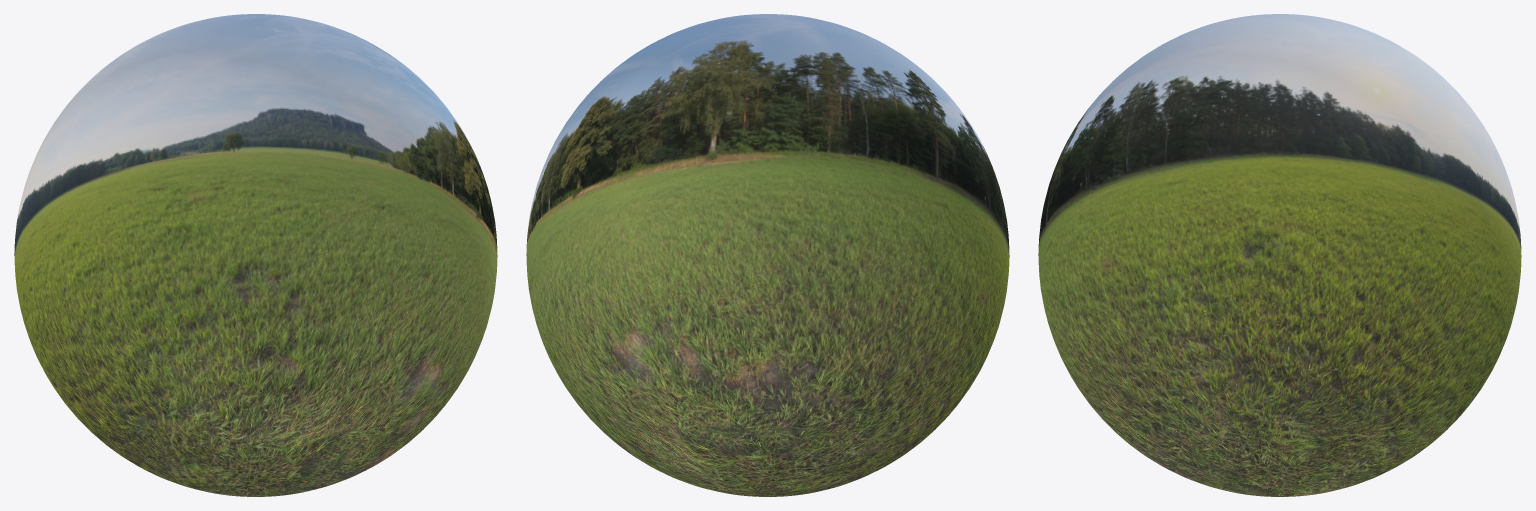
The model's file is sky.glb.
3 renders of one model, left to right at view 1: azimuth 30°, elevation 25°; view 2: azimuth 150°, elevation 25°; view 3: azimuth 270°, elevation 25°, orthographic.
Visible parts, largest first — view 1: sky; view 2: sky; view 3: sky.
Boxes of the visible parts, left/top/right/bottom form: sky: left=14, top=14, right=497, bottom=496; sky: left=526, top=14, right=1009, bottom=496; sky: left=1038, top=14, right=1521, bottom=496.
Size of the model in its own units: 200 by 200 by 200.
Materials: 1 (1 with a texture image).
